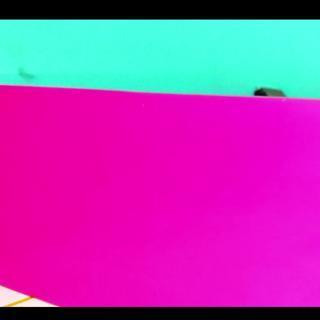xparking: (12, 106, 302, 302)
